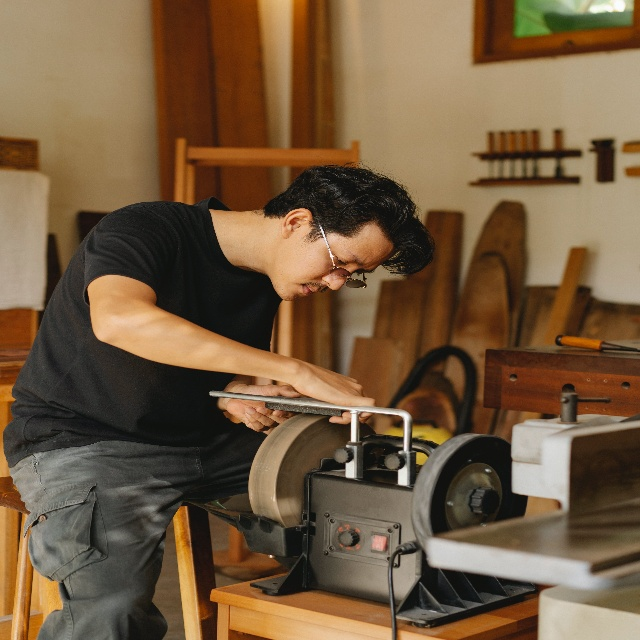Gafas: (317, 221, 367, 290)
Sin_guantes: (290, 357, 377, 425), (225, 384, 301, 433)
